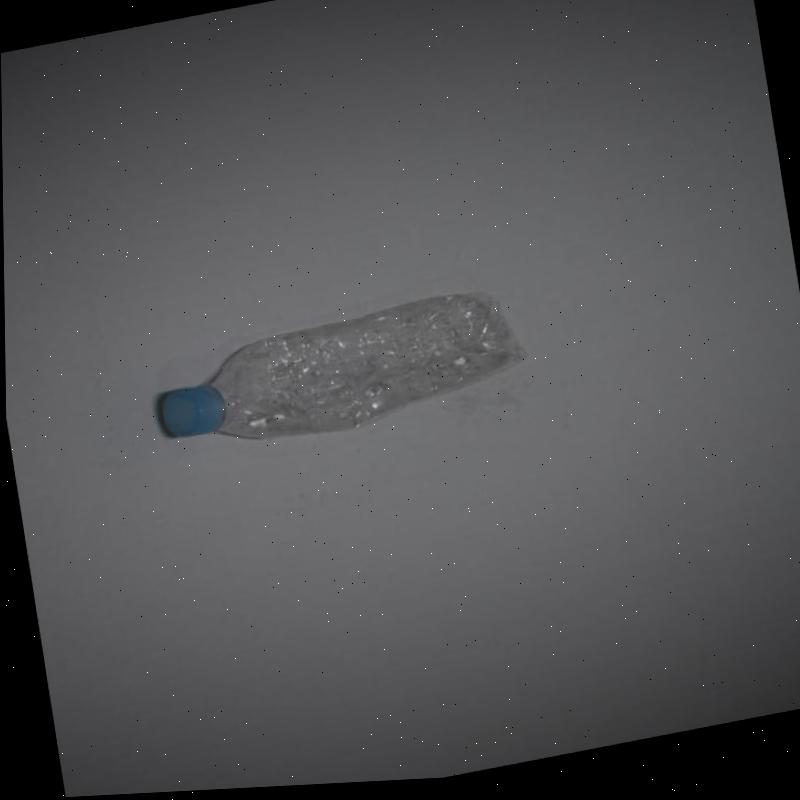botella: (150, 286, 531, 465)
